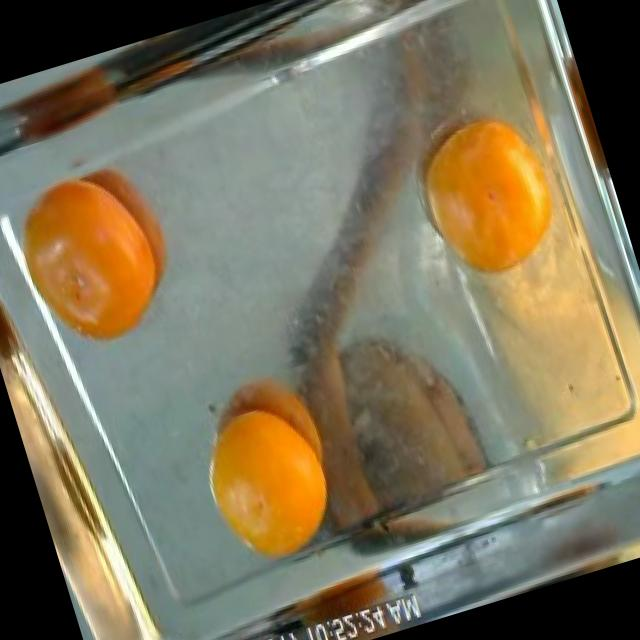Fruit: (0, 124, 208, 381), (298, 300, 506, 544), (168, 350, 366, 590), (0, 48, 140, 167)
